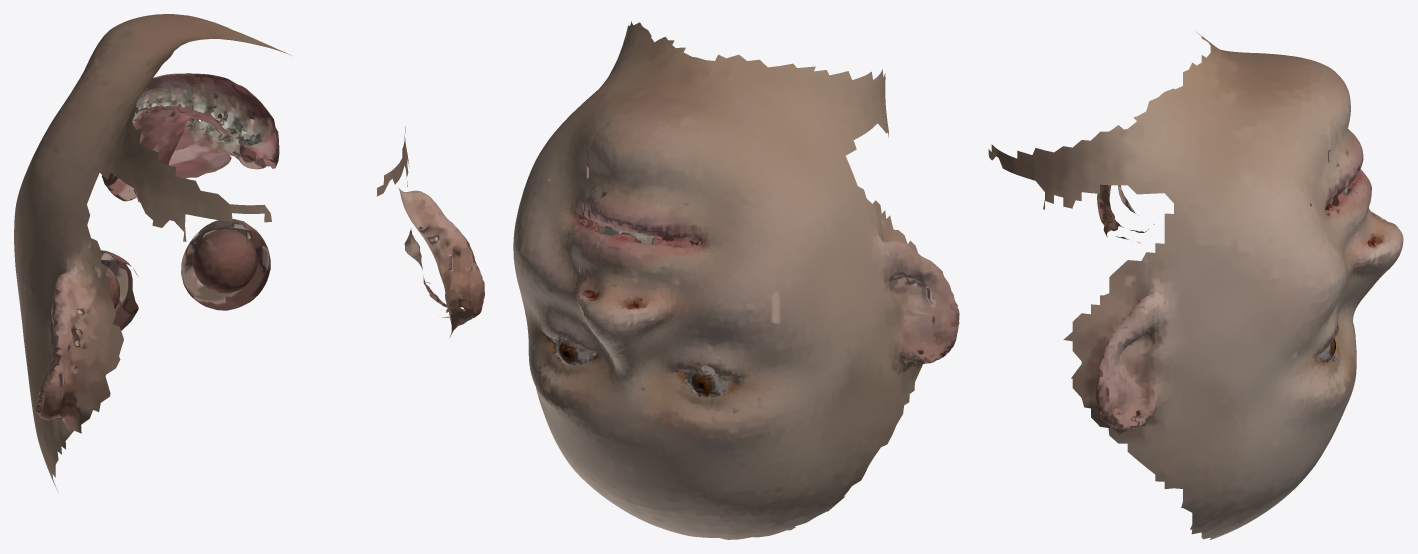
Rendered from avatar.glb.
The picture shows the model from 3 angles, left to right: view 1: azimuth 30°, elevation 25°; view 2: azimuth 150°, elevation 25°; view 3: azimuth 270°, elevation 25°; orthographic projection. The views are drawn at different scales.
Parts seen in each view (by area): view 1: face_mesh_poisson_me.ply; view 2: face_mesh_poisson_me.ply; view 3: face_mesh_poisson_me.ply.
Boxes of the visible parts, bbox=[...] form: face_mesh_poisson_me.ply: bbox=[14, 14, 484, 490]; face_mesh_poisson_me.ply: bbox=[513, 21, 959, 539]; face_mesh_poisson_me.ply: bbox=[988, 32, 1403, 539].
Bounding box in the file's own units: 2.26 × 2.5 × 1.98.
